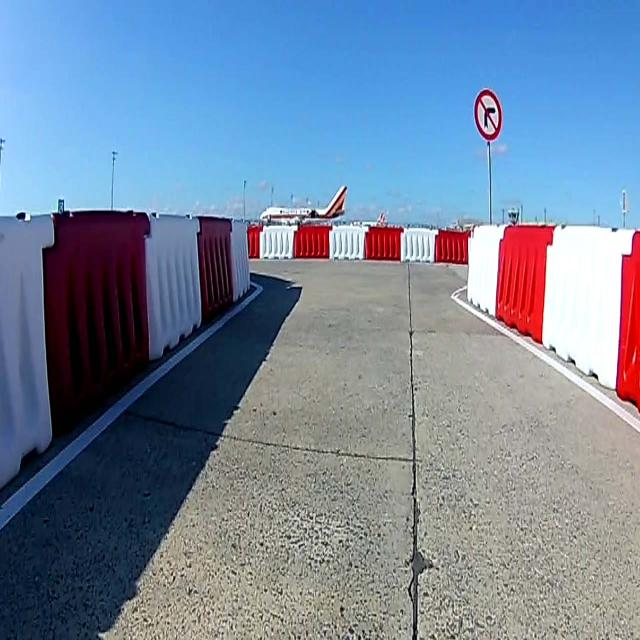sagadonulmez: (474, 89, 502, 140)
